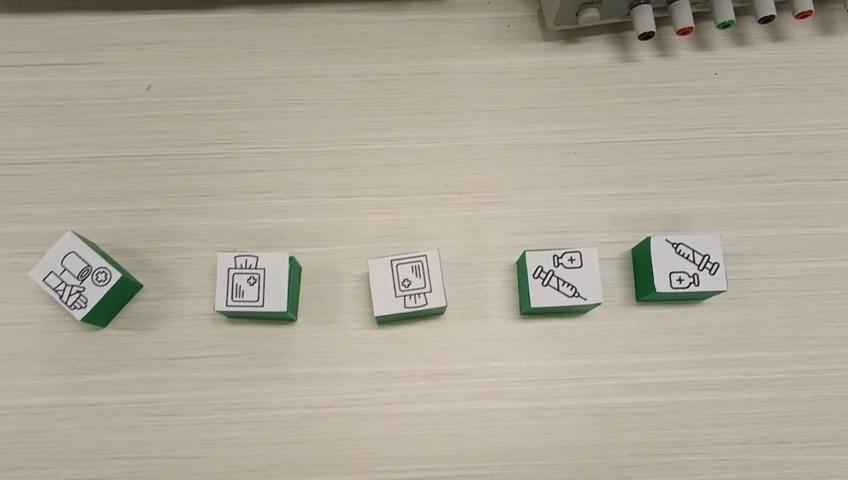Bandages: (25, 229, 144, 328)
Gauze: (366, 247, 448, 326), (214, 251, 302, 323)
antiseptic cream: (630, 230, 729, 302), (515, 246, 605, 316)
